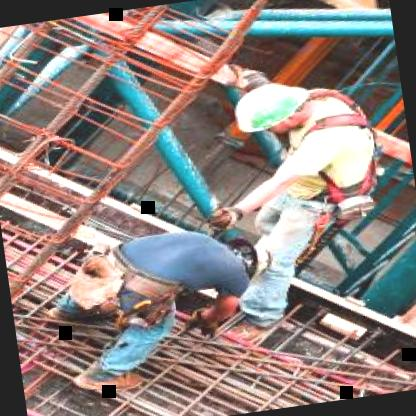helmet: (216, 75, 326, 150), (218, 229, 278, 285)
